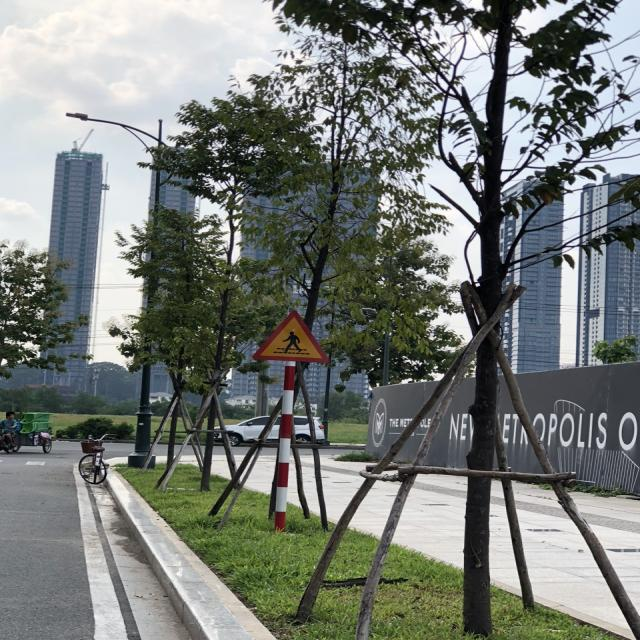Bien bao duong nguoi di bo cat ngang: (244, 302, 344, 372)
